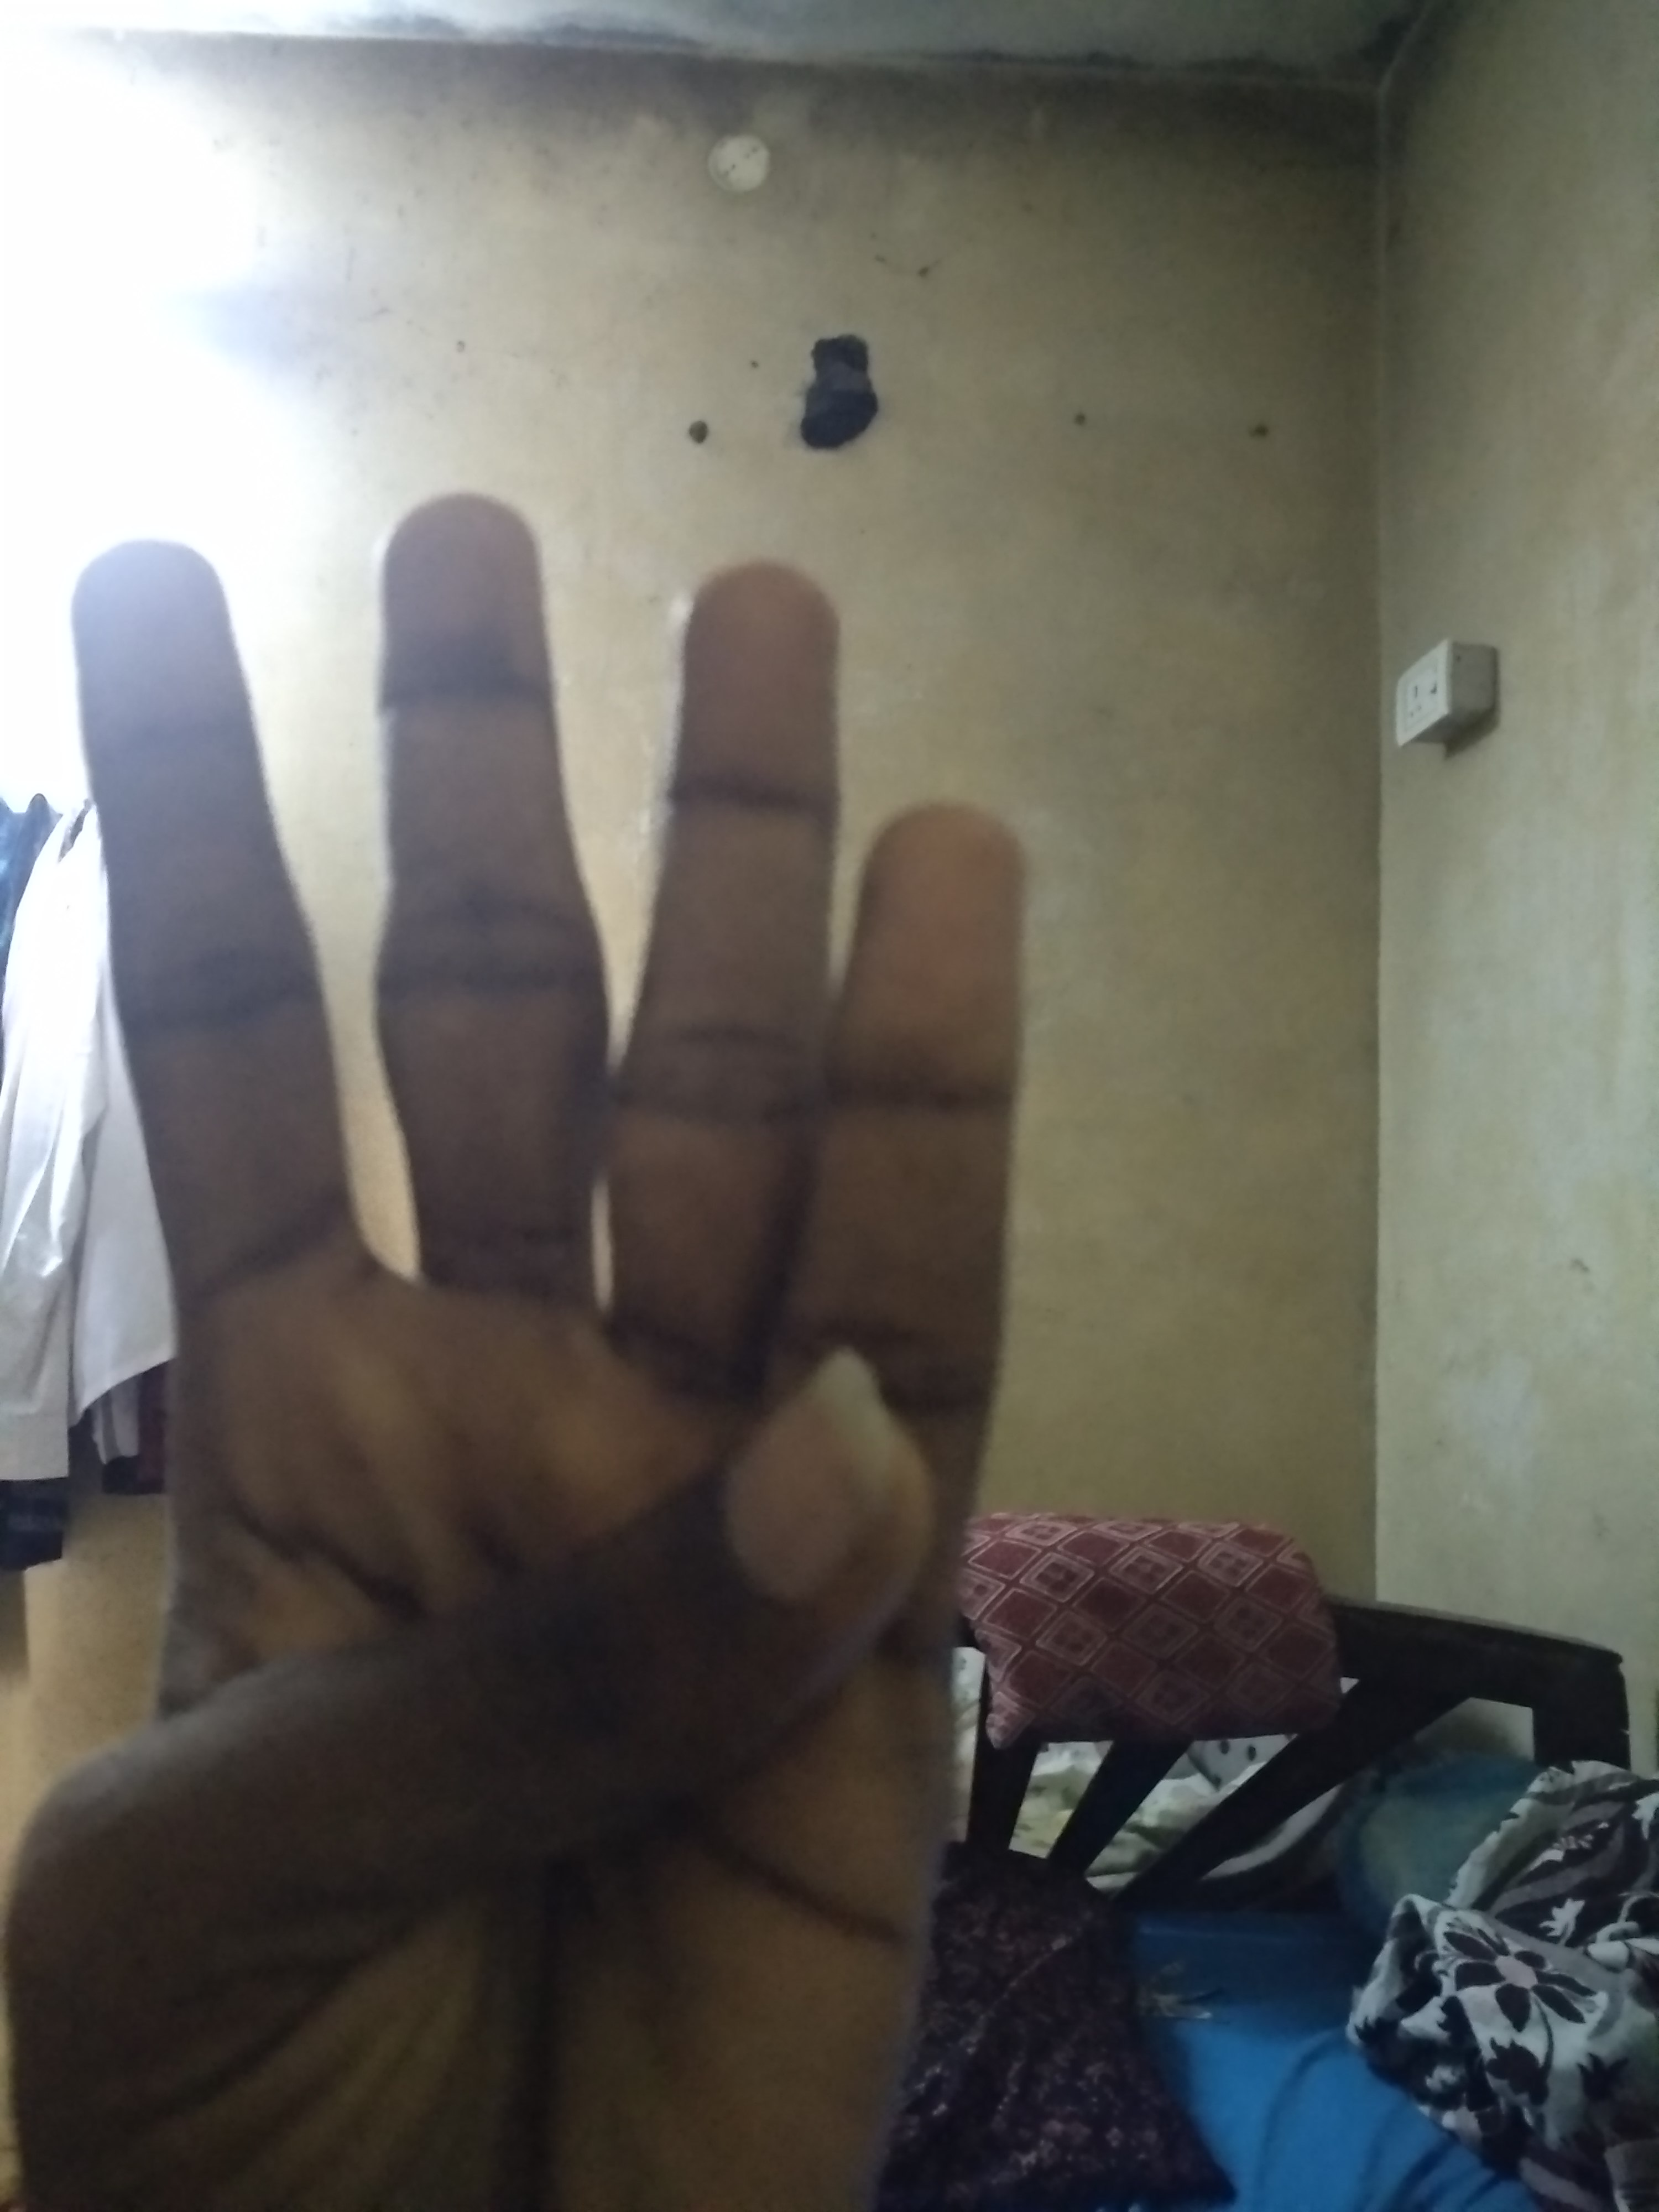four: (63, 493, 999, 1097)
